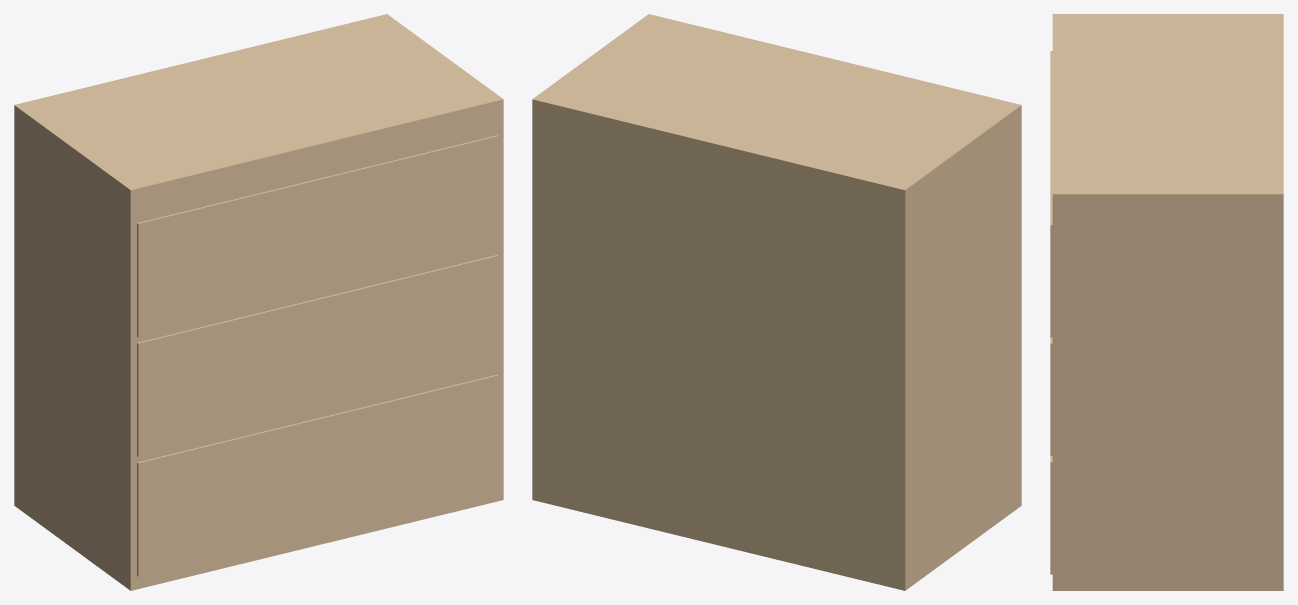
File: g-bed2-o03-6286740cdf.glb
The picture shows the model from 3 angles, left to right: view 1: azimuth 30°, elevation 25°; view 2: azimuth 150°, elevation 25°; view 3: azimuth 270°, elevation 25°; orthographic projection.
Visible parts, largest first — view 1: part-00, drawer-1, drawer-2, drawer-3; view 2: part-00; view 3: part-00, drawer-3, drawer-1, drawer-2.
Boxes of the visible parts, <box> form: part-00: <box>14,14,503,590</box>; drawer-1: <box>137,374,498,576</box>; drawer-2: <box>137,255,498,456</box>; drawer-3: <box>137,135,498,337</box>; part-00: <box>532,14,1021,590</box>; part-00: <box>1052,14,1283,590</box>; drawer-3: <box>1050,51,1052,337</box>; drawer-1: <box>1050,456,1052,574</box>; drawer-2: <box>1050,337,1052,455</box>.
Bounding box in the file's own units: 0.75 × 0.77 × 0.41.
